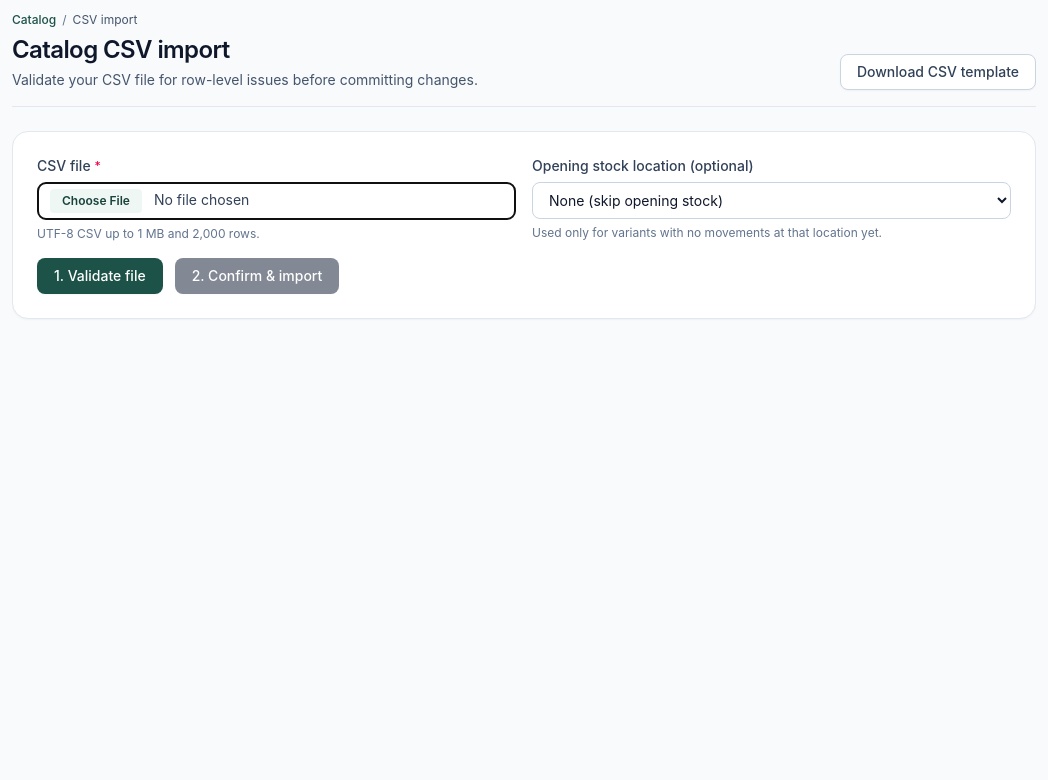
Test case: Phase 2 screens › displays row-numbered errors returned by CSV import validation
The width and height of the screenshot is (1048, 780).
Earlier steps of the test are not shown.
Step 1. Click the button "1. Validate file" → point(100, 276), box 37,258 -> 163,294
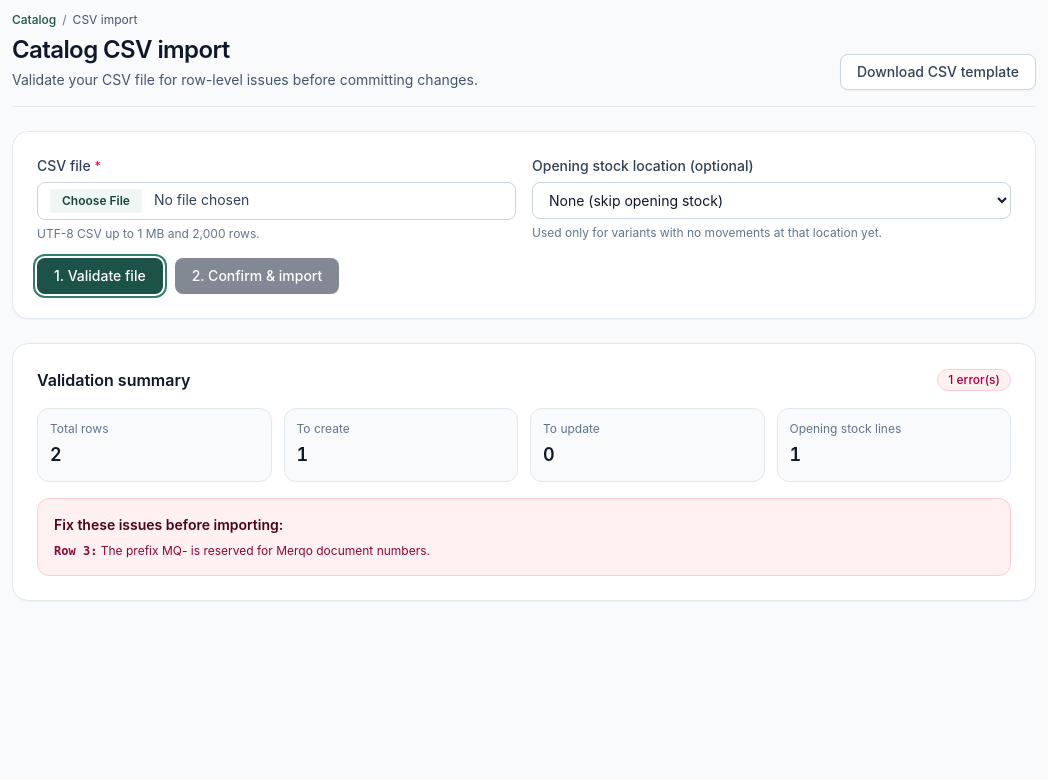
Check: the button "2. Confirm & import" is disabled, box 175,258 -> 339,294
Check: the text "Row 3:" is shown, box 54,544 -> 97,558
Check: the list item "The prefix MQ- is reserved for Merqo document numbers." is shown, box 101,543 -> 430,558
